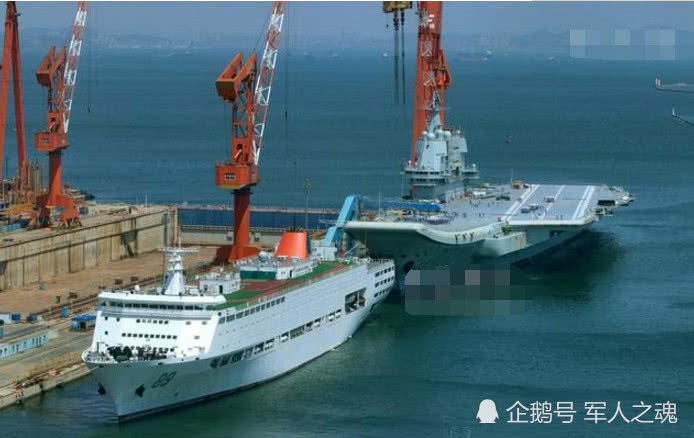warship: (353, 111, 630, 280)
youlun: (67, 216, 391, 422)
